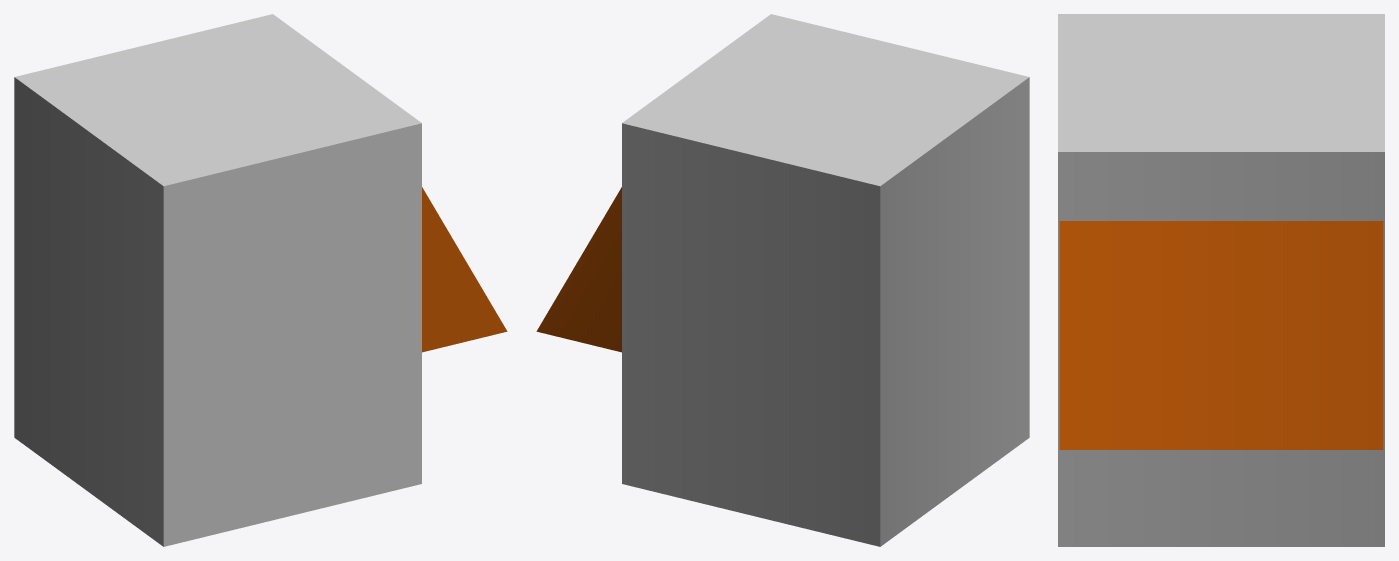
The model's file is strip-1-low.glb.
3 views of the same model, side by side, from view 1: azimuth 30°, elevation 25°; view 2: azimuth 150°, elevation 25°; view 3: azimuth 270°, elevation 25° (orthographic). The views are drawn at different scales.
Visible parts, largest first — view 1: mesh0; view 2: mesh0; view 3: mesh0.
Boxes of the visible parts, x1,y1,x2,y2 form: mesh0: [14, 14, 507, 546]; mesh0: [536, 14, 1029, 546]; mesh0: [1058, 14, 1384, 546].
Bounding box in the file's own units: 0.8 × 0.8 × 0.6.
